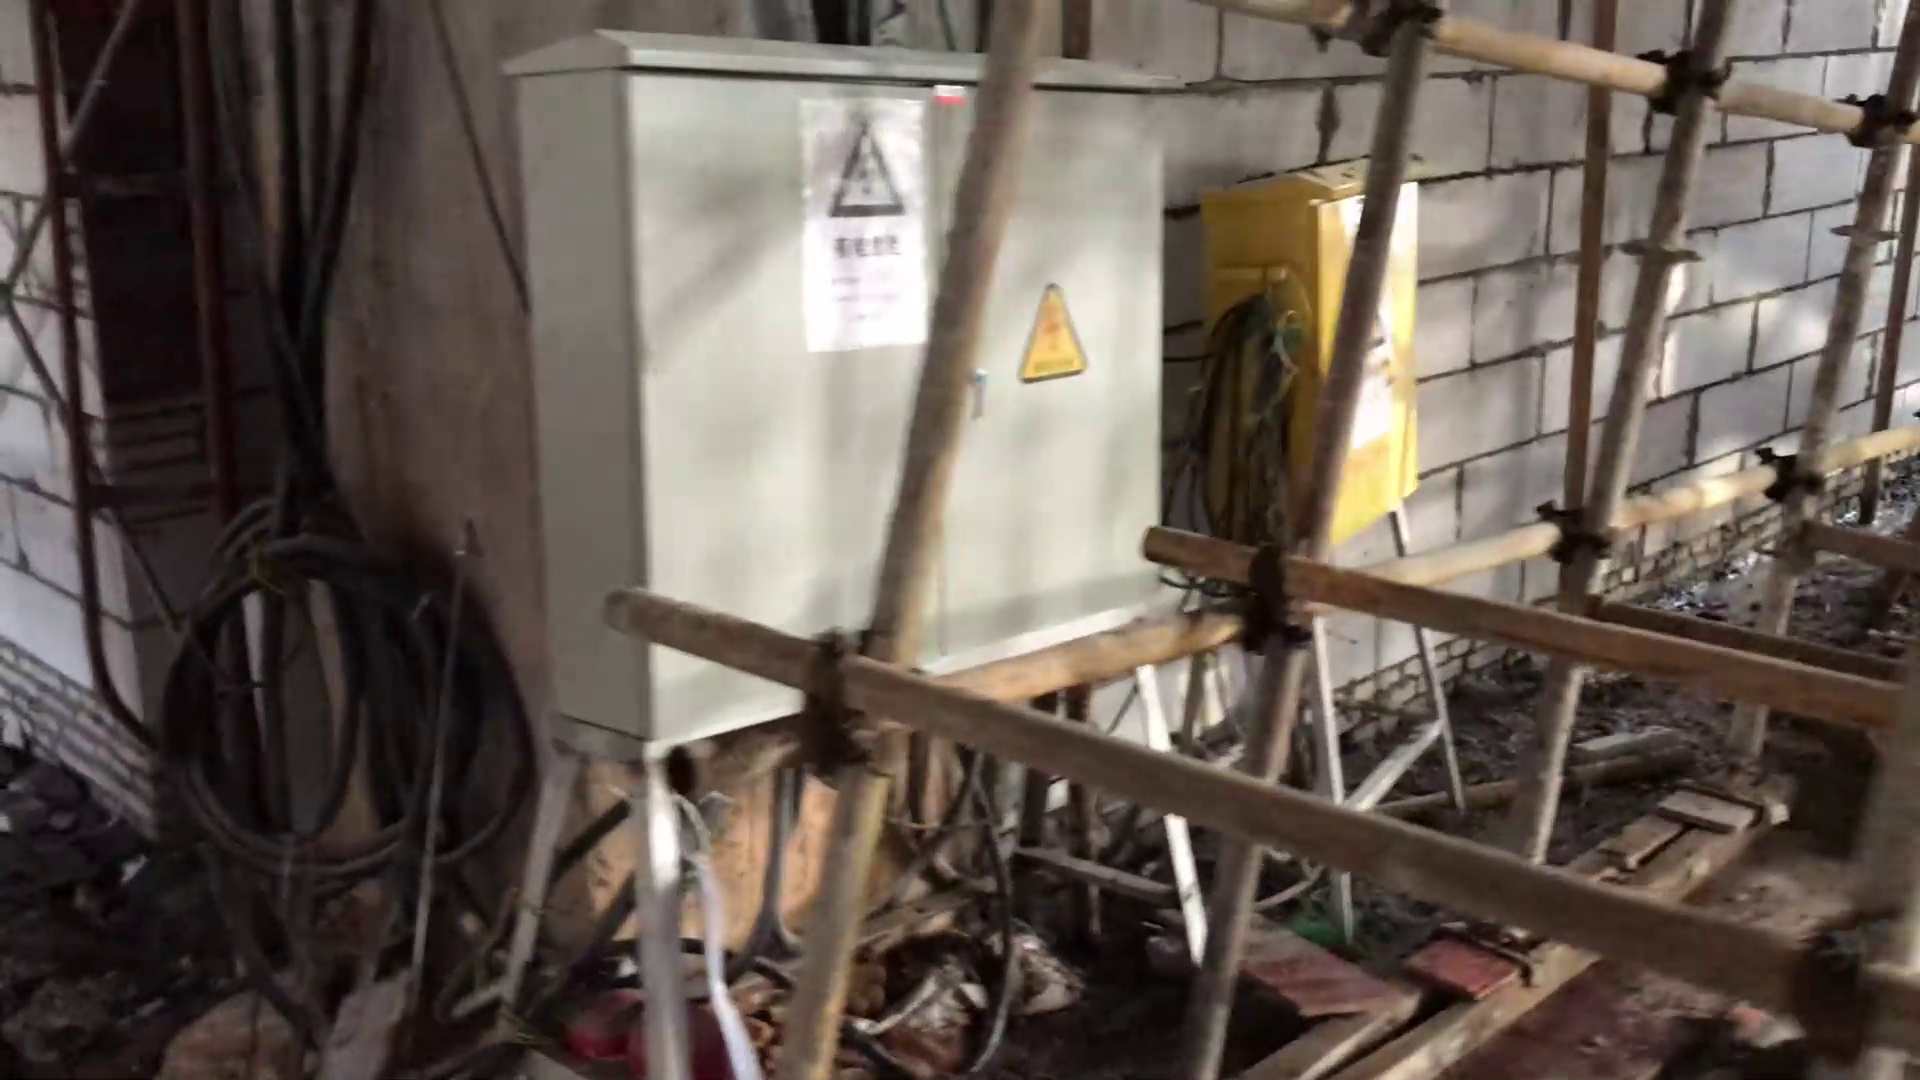ebox: (496, 26, 1185, 742), (1196, 148, 1422, 550)
